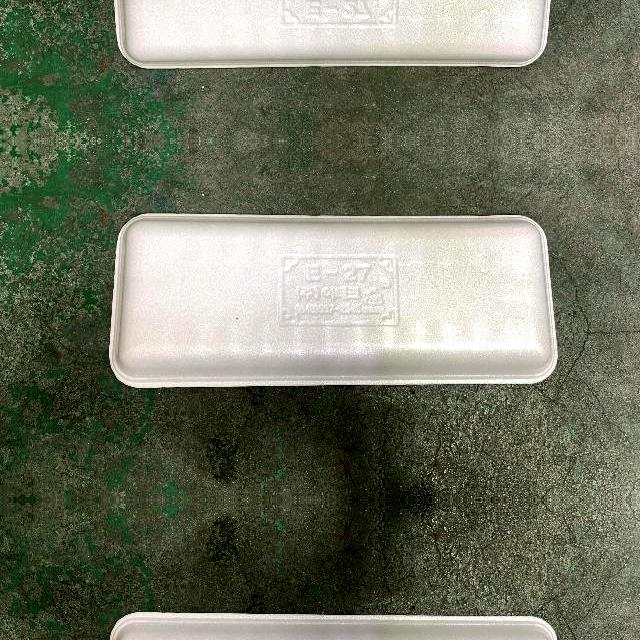Styrofoam: (110, 212, 558, 388), (109, 212, 558, 387), (110, 0, 558, 68), (114, 0, 552, 68)
